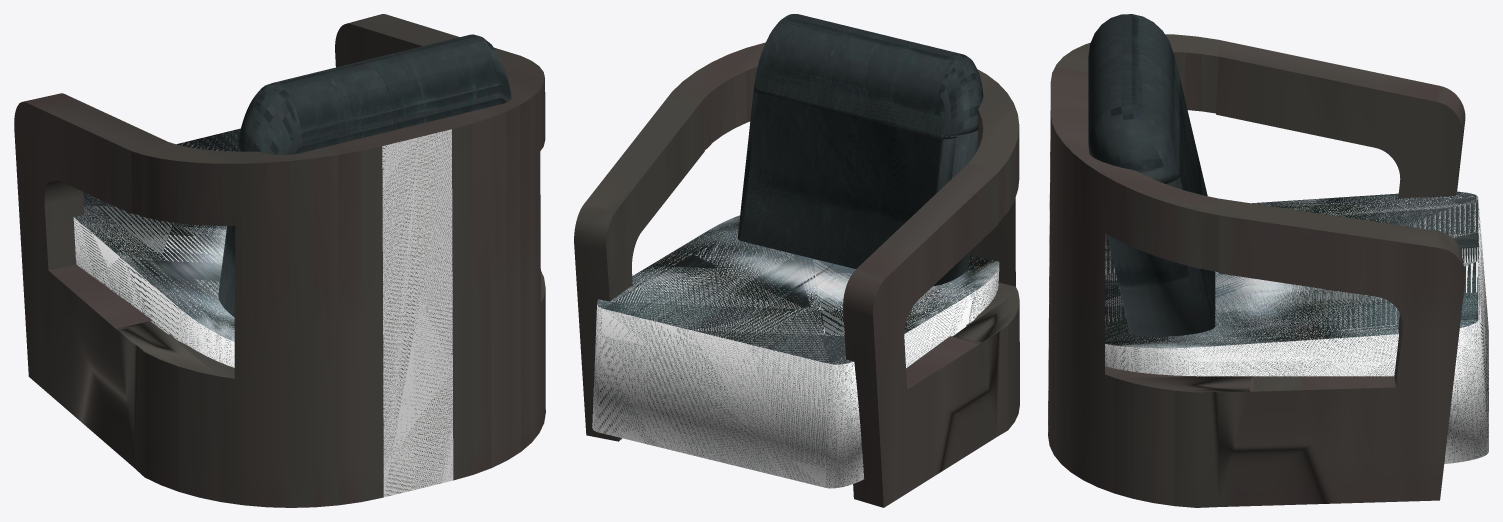
3 renders of one model, left to right at view 1: azimuth 30°, elevation 25°; view 2: azimuth 150°, elevation 25°; view 3: azimuth 270°, elevation 25°, orthographic. The views are drawn at different scales.
Visible parts, largest first — view 1: mesh4_mesh4-geometry, mesh2_mesh2-geometry, mesh1_mesh1-geometry; view 2: mesh4_mesh4-geometry, mesh1_mesh1-geometry, mesh2_mesh2-geometry; view 3: mesh4_mesh4-geometry, mesh1_mesh1-geometry, mesh2_mesh2-geometry.
Part boxes in pixels (box(x1,y1,x2,y2)): mesh4_mesh4-geometry: box(14, 14, 545, 507); mesh2_mesh2-geometry: box(218, 34, 511, 317); mesh1_mesh1-geometry: box(73, 128, 240, 367); mesh4_mesh4-geometry: box(574, 42, 1019, 507); mesh1_mesh1-geometry: box(592, 215, 999, 488); mesh2_mesh2-geometry: box(737, 14, 983, 286); mesh4_mesh4-geometry: box(1048, 34, 1465, 507); mesh1_mesh1-geometry: box(1105, 191, 1488, 463); mesh2_mesh2-geometry: box(1088, 14, 1215, 336).
Bounding box in the file's own units: 0.5718 × 0.5523 × 0.6066.
